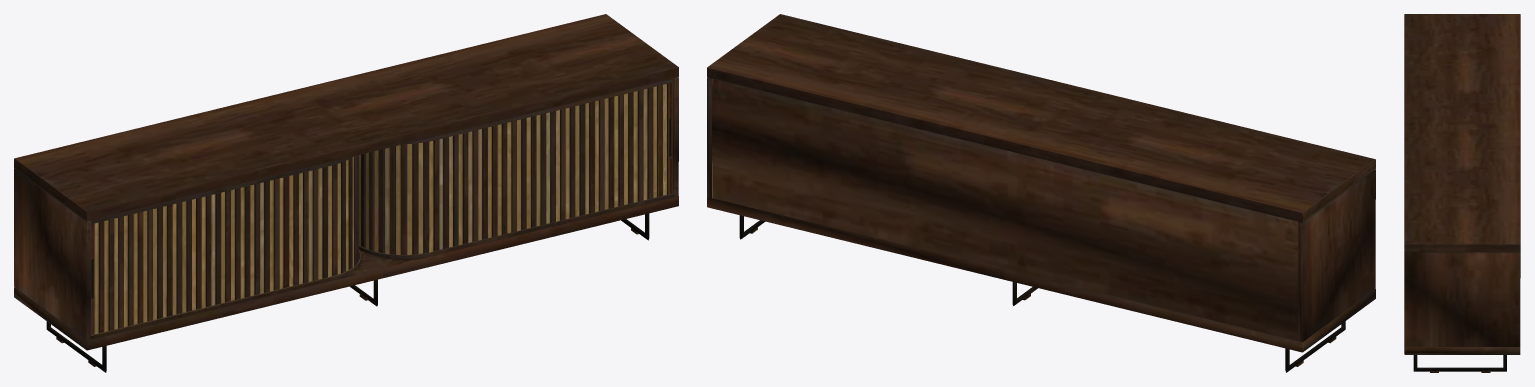
3 renders of one model, left to right at view 1: azimuth 30°, elevation 25°; view 2: azimuth 150°, elevation 25°; view 3: azimuth 270°, elevation 25°, orthographic. The views are drawn at different scales.
Visible parts, largest first — view 1: modern_wooden_cabinet_body, modern_wooden_cabinet_door_r, modern_wooden_cabinet_door_l; view 2: modern_wooden_cabinet_body; view 3: modern_wooden_cabinet_body.
Boxes of the visible parts, x1=… form: modern_wooden_cabinet_body: x1=14, y1=14, x2=678, y2=372; modern_wooden_cabinet_door_r: x1=359, y1=82, x2=672, y2=254; modern_wooden_cabinet_door_l: x1=91, y1=155, x2=358, y2=334; modern_wooden_cabinet_body: x1=707, y1=14, x2=1375, y2=372; modern_wooden_cabinet_body: x1=1404, y1=14, x2=1520, y2=372.
Bounding box in the file's own units: 2.44 × 0.6801 × 0.52.
1 material, 1 textured.
